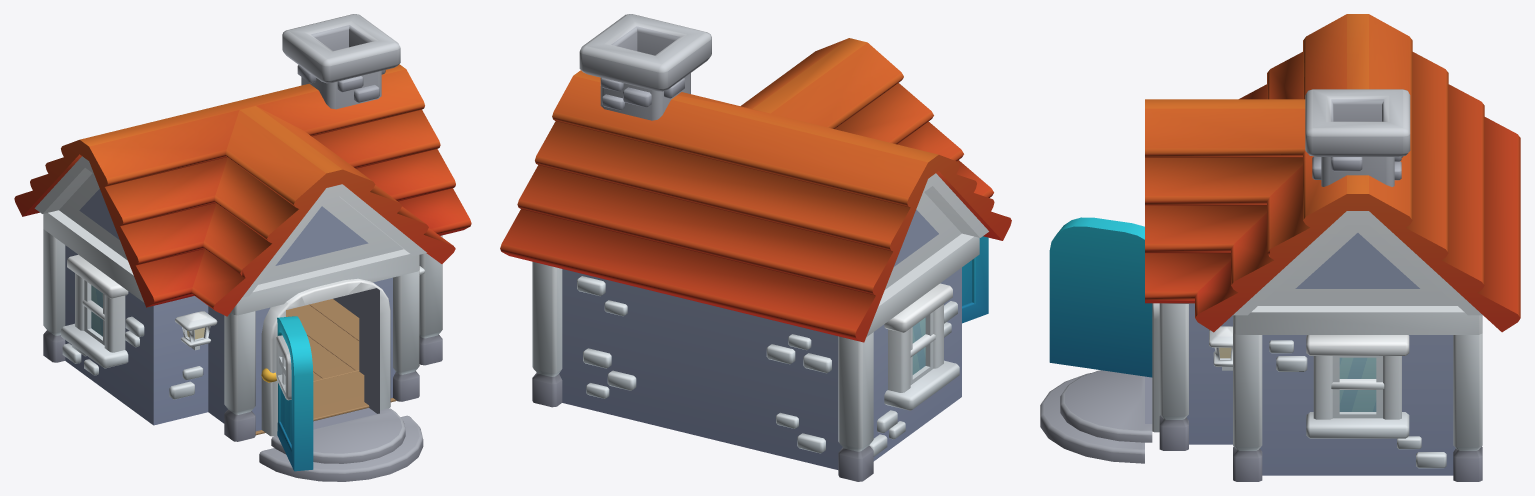
File: shop.glb
3 renders of one model, left to right at view 1: azimuth 30°, elevation 25°; view 2: azimuth 150°, elevation 25°; view 3: azimuth 270°, elevation 25°, orthographic. The views are drawn at different scales.
Parts seen in each view (by area): view 1: roof_house.001, body_house, roof_original_chimney, body_open_original_door, interior_floor, interior_floor_entry; view 2: roof_house.001, body_house, roof_original_chimney, body_open_original_door; view 3: roof_house.001, body_house, body_open_original_door, roof_original_chimney.
Part boxes in pixels (x1,y1,x2,y2): roof_house.001: (14, 64, 471, 316); body_house: (43, 229, 442, 481); roof_original_chimney: (282, 14, 400, 109); body_open_original_door: (261, 316, 313, 471); interior_floor: (286, 299, 359, 381); interior_floor_entry: (255, 371, 396, 435); roof_house.001: (500, 38, 1011, 342); body_house: (532, 261, 961, 481); roof_original_chimney: (579, 14, 711, 120); body_open_original_door: (962, 236, 988, 323); roof_house.001: (1145, 14, 1520, 334); body_house: (1040, 303, 1482, 481); body_open_original_door: (1049, 217, 1152, 377); roof_original_chimney: (1305, 89, 1410, 186).
Bounding box in the file's own units: 283 × 265 × 314.
3 materials, 1 textured.
